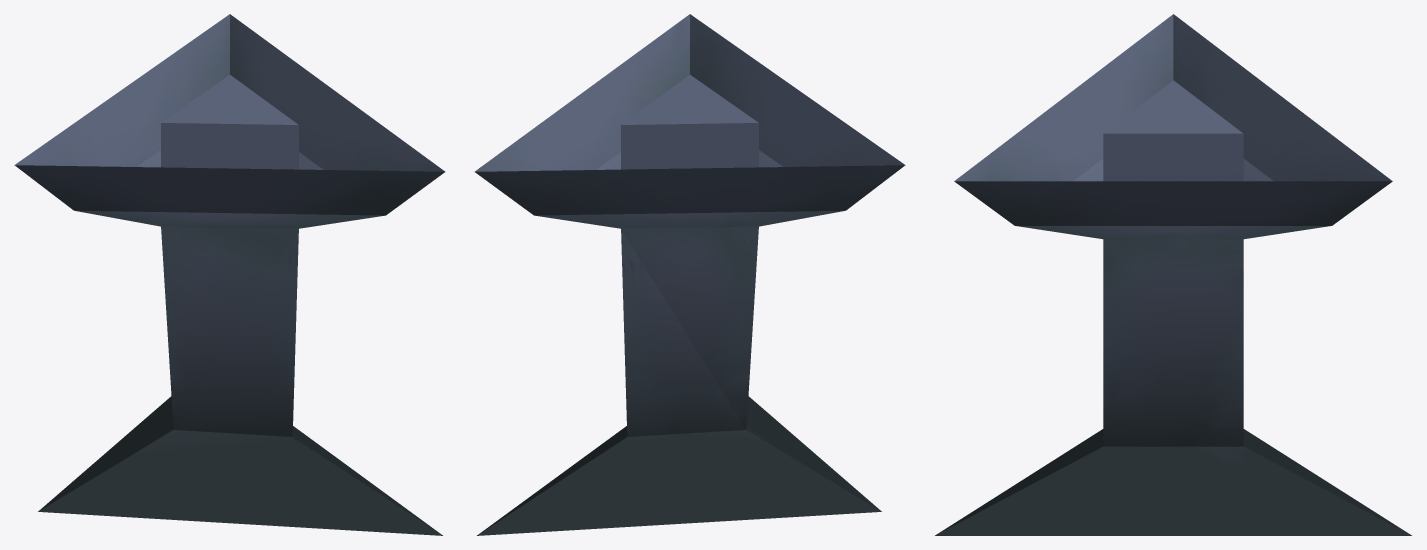
File: candle.obj
3 views of the same model, side by side, from view 1: azimuth 30°, elevation 25°; view 2: azimuth 150°, elevation 25°; view 3: azimuth 270°, elevation 25° (orthographic).
Visible parts, largest first — view 1: Vela.001_Circle.001; view 2: Vela.001_Circle.001; view 3: Vela.001_Circle.001.
Boxes of the visible parts, x1,y1,x2,y2 form: Vela.001_Circle.001: (14, 14, 445, 535); Vela.001_Circle.001: (474, 14, 905, 535); Vela.001_Circle.001: (935, 14, 1411, 535).
Bounding box in the file's own units: 0.1594 × 0.173 × 0.2007.
